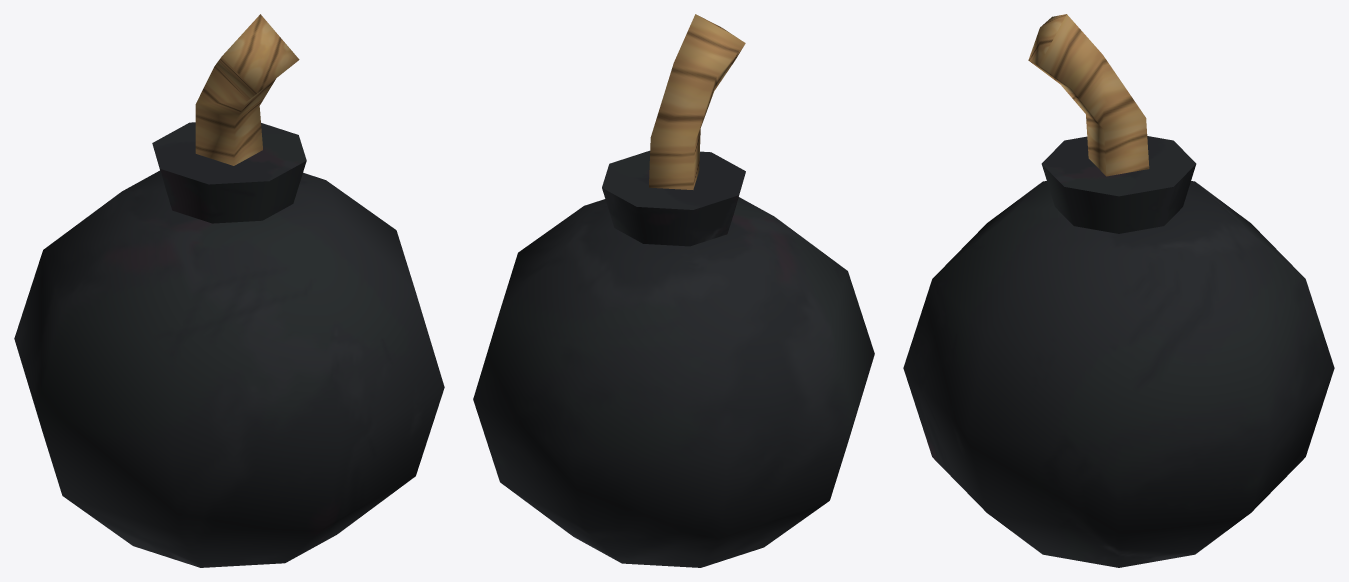
File: SM_PROP_bomb_battle.fbx
3 renders of one model, left to right at view 1: azimuth 30°, elevation 25°; view 2: azimuth 150°, elevation 25°; view 3: azimuth 270°, elevation 25°, orthographic. The views are drawn at different scales.
Parts seen in each view (by area): view 1: SM_PROP_bomb_battle; view 2: SM_PROP_bomb_battle; view 3: SM_PROP_bomb_battle.
Boxes of the visible parts, x1,y1,x2,y2 form: SM_PROP_bomb_battle: [14, 14, 444, 567]; SM_PROP_bomb_battle: [473, 14, 874, 567]; SM_PROP_bomb_battle: [903, 14, 1334, 567].
Bounding box in the file's own units: 30 × 40.62 × 30.
